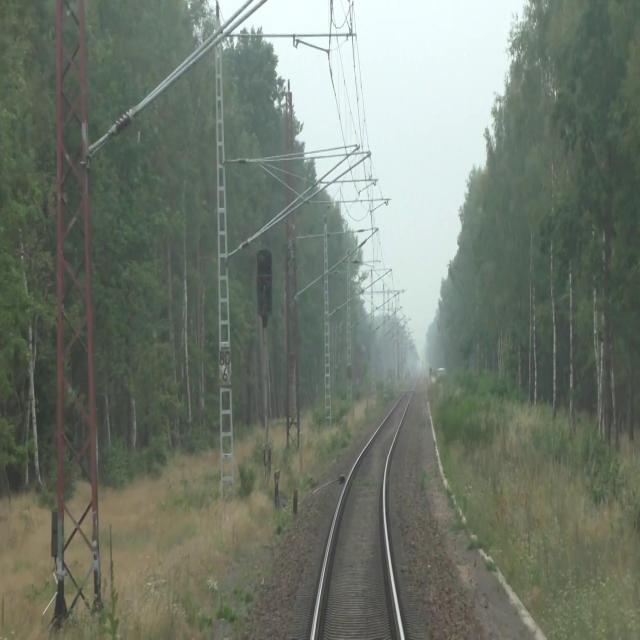rail-track: (315, 390, 410, 639)
